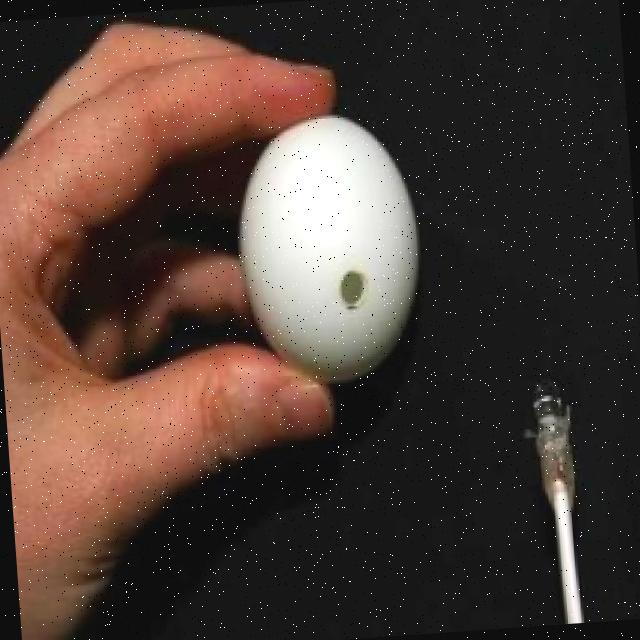ping-pong-ball: (234, 111, 423, 386)
